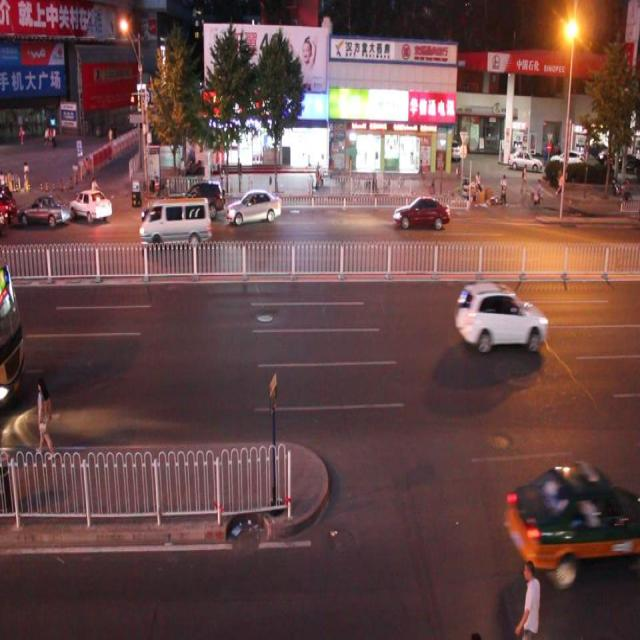car: (502, 459, 640, 582), (452, 279, 546, 352), (171, 181, 225, 226), (139, 197, 198, 238), (392, 194, 450, 233), (16, 195, 71, 235), (226, 190, 282, 224), (70, 185, 113, 223)
truck: (138, 196, 211, 251)
